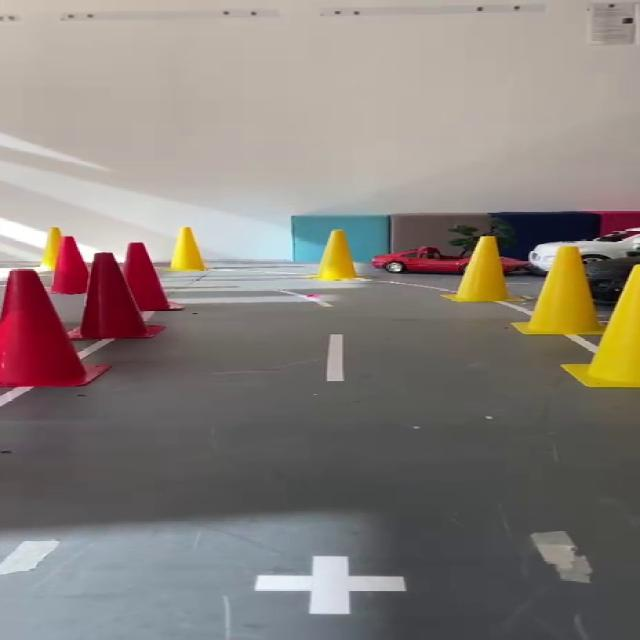Cone-red: (0, 270, 108, 386), (72, 253, 159, 338), (123, 242, 179, 310), (51, 236, 88, 295)
Cones-yellow: (566, 265, 639, 386), (516, 244, 600, 335), (447, 236, 509, 302), (314, 231, 357, 280), (171, 227, 204, 270), (41, 228, 58, 269)
